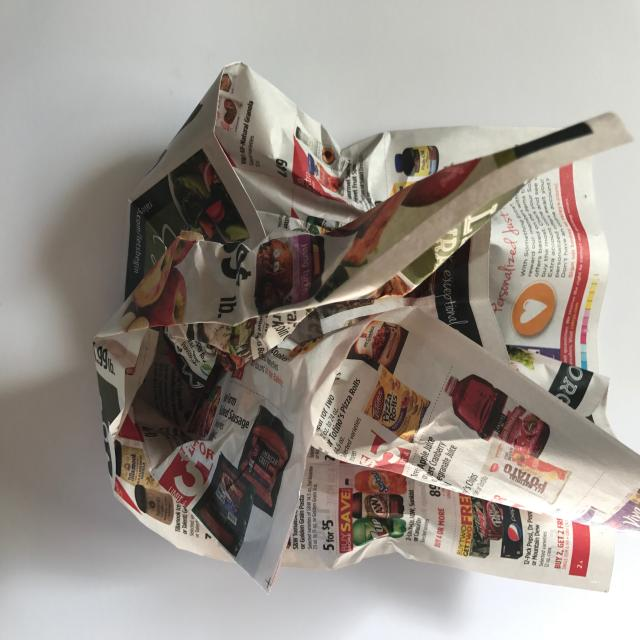paper: (92, 61, 638, 595)
